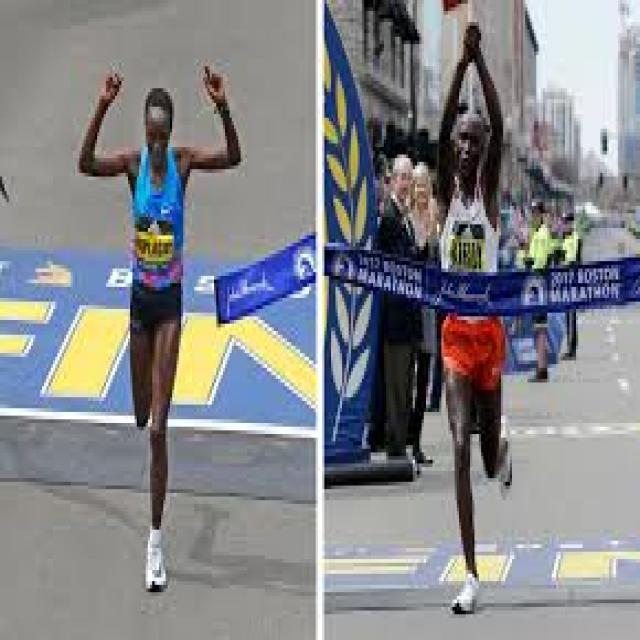running: (76, 61, 242, 592), (438, 19, 517, 616)
